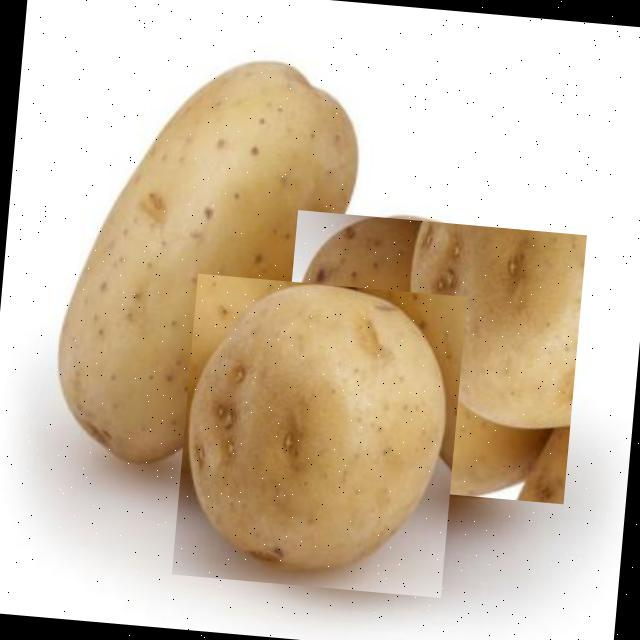Potato: (52, 41, 362, 479), (172, 274, 466, 598), (274, 210, 586, 503)
